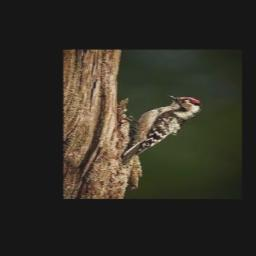Woodpecker: (123, 94, 202, 164)
